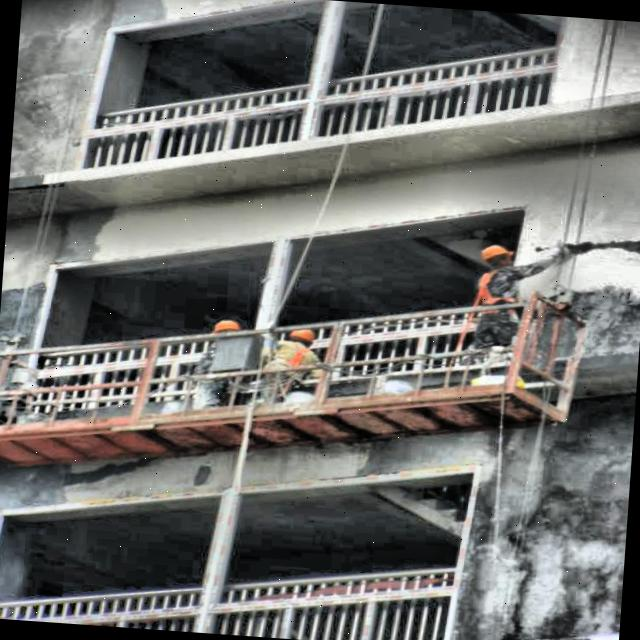helmet: (272, 320, 328, 352), (198, 312, 248, 346), (476, 241, 520, 272)
